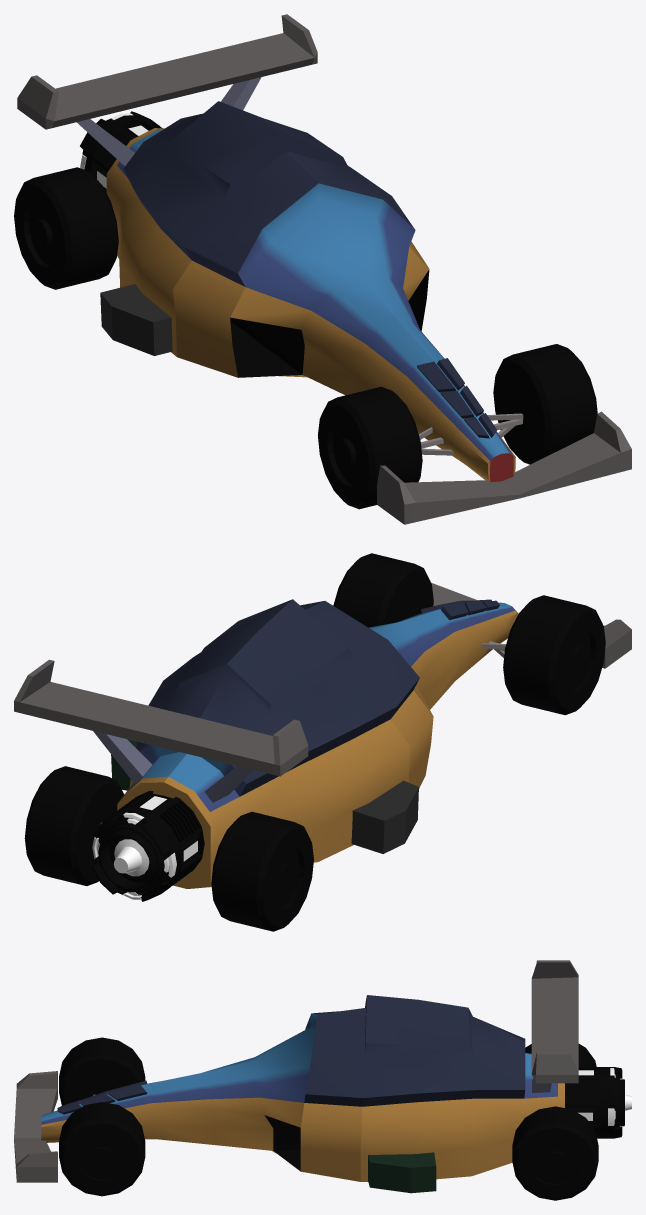
3 views of the same model, one above another, from view 1: azimuth 30°, elevation 25°; view 2: azimuth 150°, elevation 25°; view 3: azimuth 270°, elevation 25° (orthographic). The views are drawn at different scales.
Parts seen in each view (by area): view 1: polySurface15, polySurface9, back right tyre.002, polySurface11, front right tyre.002, front left tyre.003, polySurface14, thruster; view 2: polySurface15, polySurface9, back right tyre.002, front right tyre.002, thruster, back left tyre.002, front left tyre.003, polySurface14, polySurface11; view 3: polySurface15, back left tyre.002, front left tyre.003, polySurface9, polySurface11, front right tyre.002, thruster, polySurface13, back right tyre.002.
Part boxes in pixels (x1,y1,x2,y2): polySurface15: (76, 77, 523, 482); polySurface9: (17, 14, 317, 129); back right tyre.002: (14, 167, 118, 289); polySurface11: (377, 411, 631, 524); front right tyre.002: (318, 386, 422, 509); front left tyre.003: (493, 344, 597, 464); polySurface14: (100, 284, 172, 355); thruster: (80, 111, 162, 192); polySurface15: (93, 599, 518, 888); polySurface9: (14, 659, 308, 776); back right tyre.002: (211, 811, 313, 931); front right tyre.002: (503, 595, 605, 715); thruster: (92, 791, 204, 901); back left tyre.002: (24, 766, 124, 885); front left tyre.003: (333, 553, 433, 627); polySurface14: (351, 780, 418, 853); polySurface11: (431, 582, 631, 668); polySurface15: (41, 995, 564, 1181); back left tyre.002: (512, 1106, 598, 1200); front left tyre.003: (59, 1102, 145, 1196); polySurface9: (531, 960, 578, 1083); polySurface11: (14, 1071, 57, 1182); front right tyre.002: (59, 1037, 145, 1105); thruster: (565, 1067, 631, 1138); polySurface13: (368, 1152, 436, 1193); back right tyre.002: (525, 1044, 596, 1066).
Bounding box in the file's own units: 3.57 × 2.54 × 8.75.
